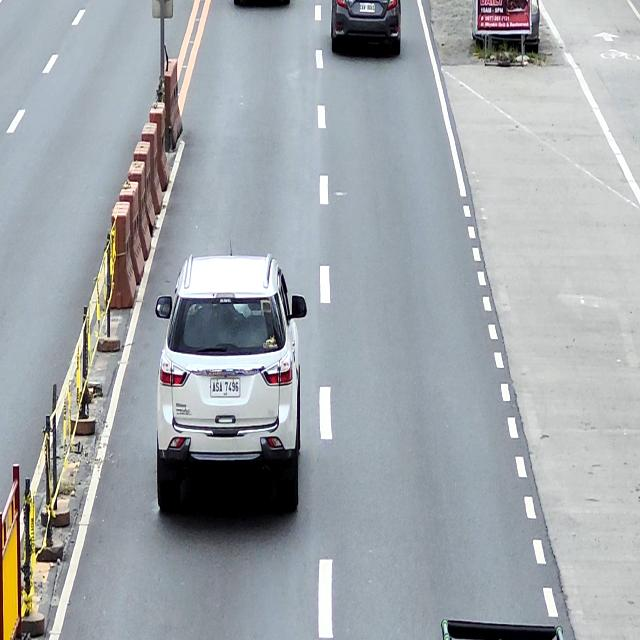Car: (156, 254, 308, 513), (331, 0, 402, 57)
License-Plate: (210, 379, 240, 397), (359, 2, 375, 13)
